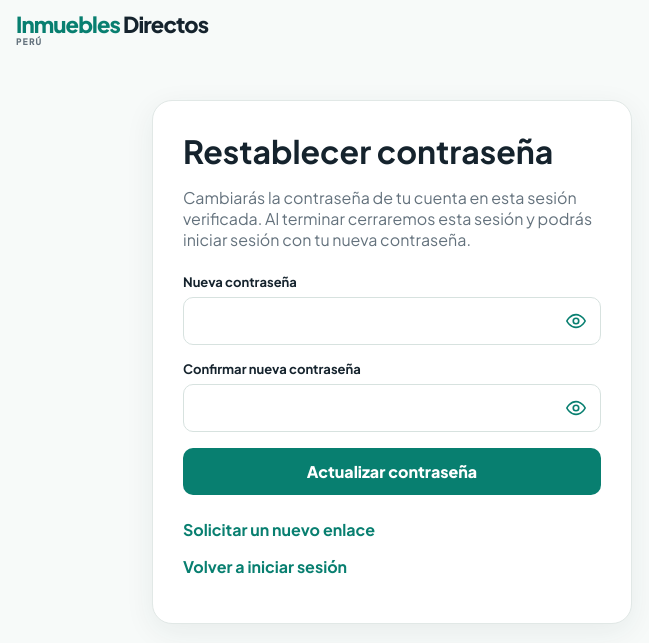
Test: verified self password update › blocks missing/changed/anonymous identity at submit: null
In the password field labelled "Nueva contraseña": (392, 321) x1=183 y1=297 x2=601 y2=345, type "fixture-password"
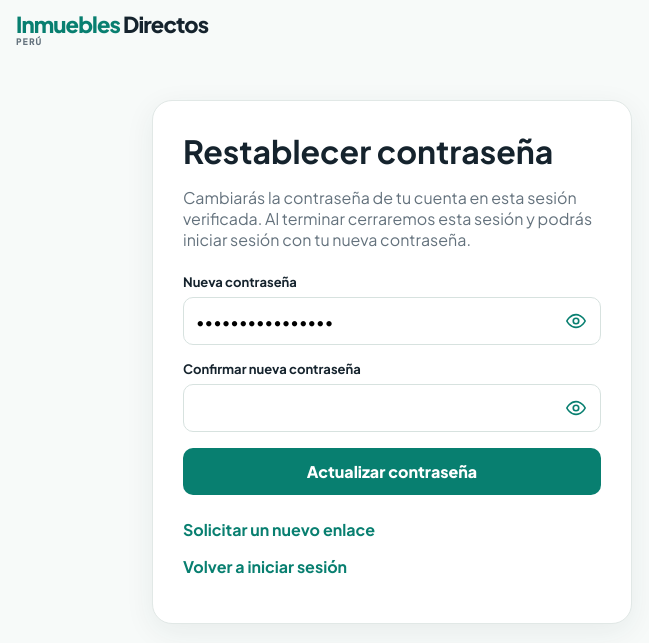
In the password field labelled "Confirmar nueva contraseña": (392, 408) x1=183 y1=384 x2=601 y2=432, type "fixture-password"
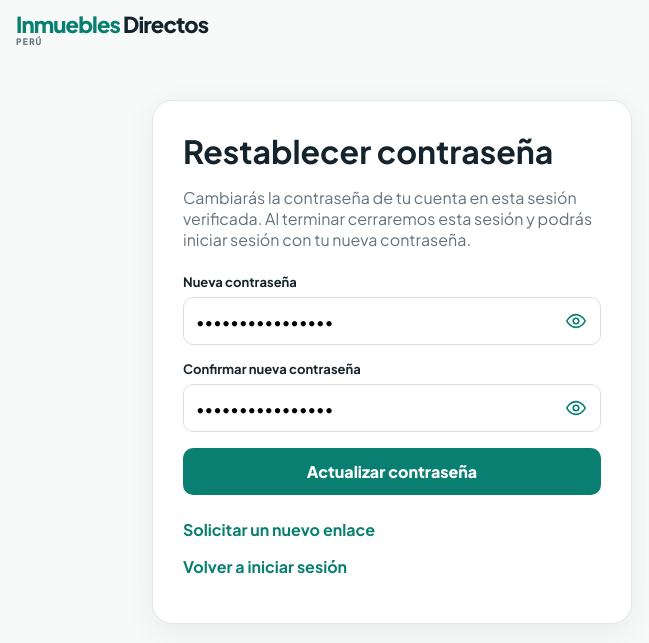
Submit the form labelled "Nueva contraseña", box x1=183 y1=274 x2=601 y2=495
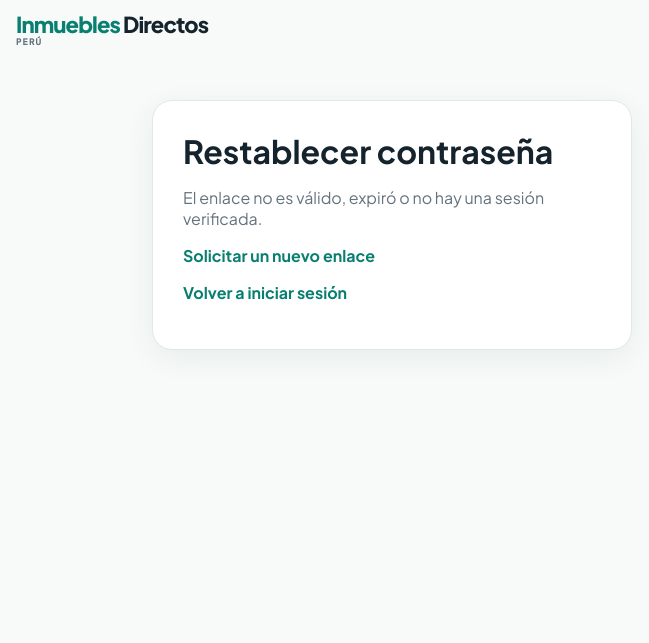
Now the text labelled "Nueva contraseña" is gone
